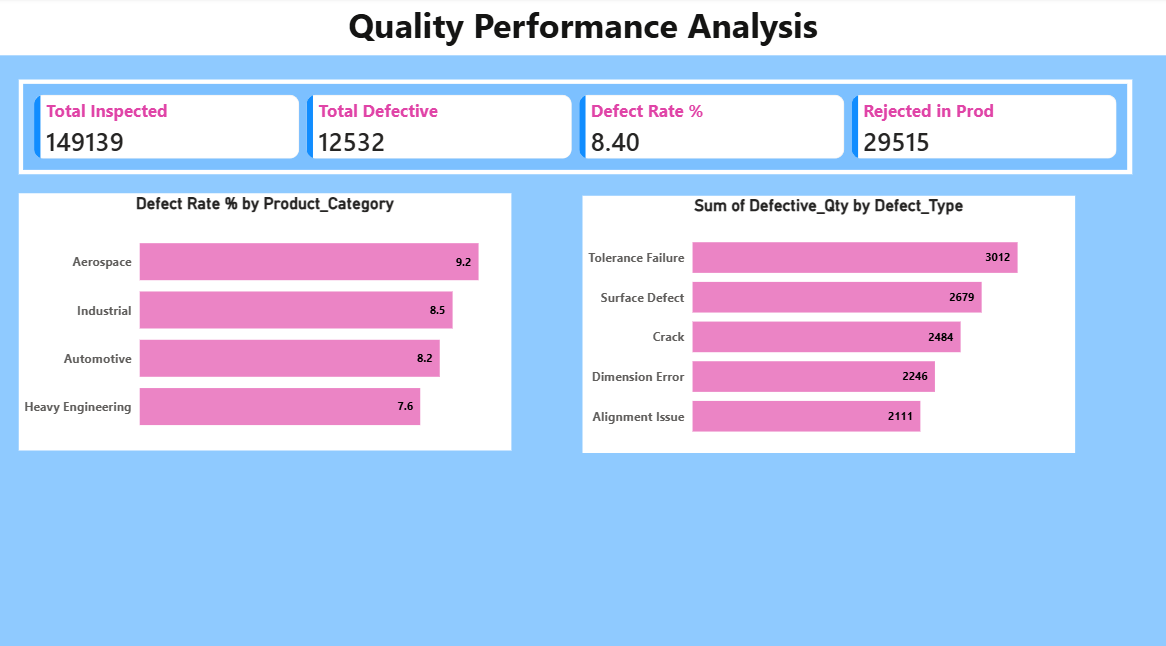

What the dashboard file says about the page in this screenshot:
{"tool":"powerbi","page":{"name":"Page 3","canvas":[1280,720],"ordinal":2},"visuals":[{"type":"textbox","box":[0,0,1280,64.1],"z":0},{"type":"cardVisual","fields":{"Data":["Sum(Quality Inspection Log.Inspected_Qty)","Sum(Quality Inspection Log.Defective_Qty)","Quality Inspection Log.Defect Rate %","Sum(Production Log.Rejected_Qty)"]},"box":[20.6,90.6,1222.6,104.3],"z":1000},{"type":"barChart","fields":{"Category":["Product Master.Product_Category"],"Y":["Quality Inspection Log.Defect Rate %"]},"box":[20.6,215.4,540.7,282.7],"z":2000},{"type":"barChart","fields":{"Category":["Quality Inspection Log.Defect_Type"],"Y":["Sum(Quality Inspection Log.Defective_Qty)"]},"box":[639.5,218.2,540.7,282.7],"z":3000}]}

Visuals, with their boxes in screenshot pixels (x1, y1, x2, y2), scaled from the page's 1280x720 canvas onto the 1166x646 screenshot:
textbox: 0,0,1165,58
cardVisual - Sum(Quality Inspection Log.Inspected_Qty) x Sum(Quality Inspection Log.Defective_Qty): 19,81,1132,175
barChart - Product Master.Product_Category x Quality Inspection Log.Defect Rate %: 19,193,511,447
barChart - Quality Inspection Log.Defect_Type x Sum(Quality Inspection Log.Defective_Qty): 583,196,1075,449
